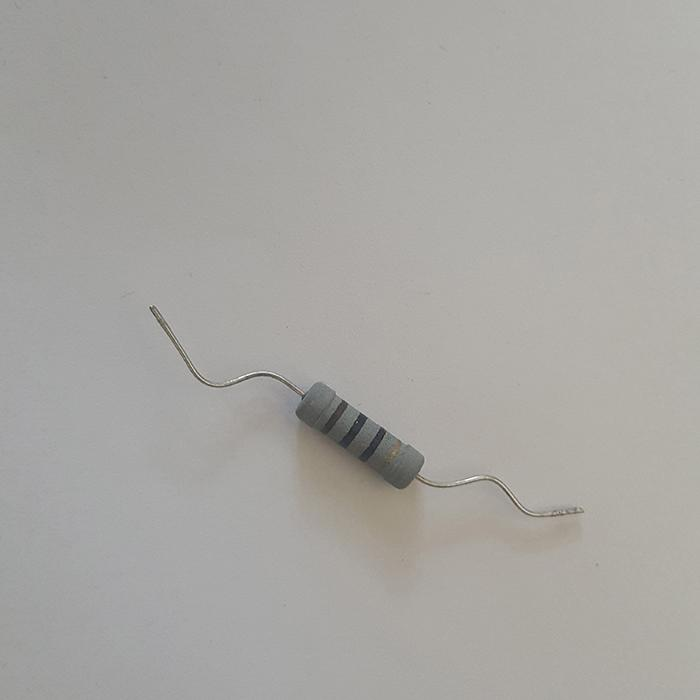resistor: (293, 379, 427, 490)
